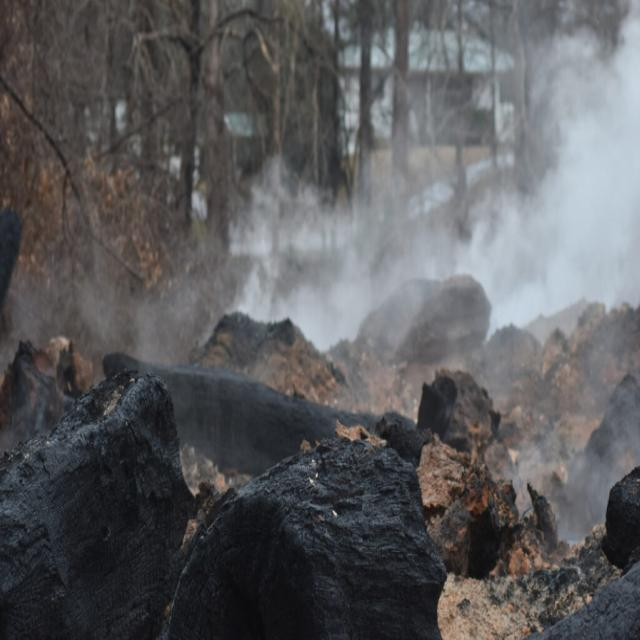Smoke: (199, 0, 639, 419)
